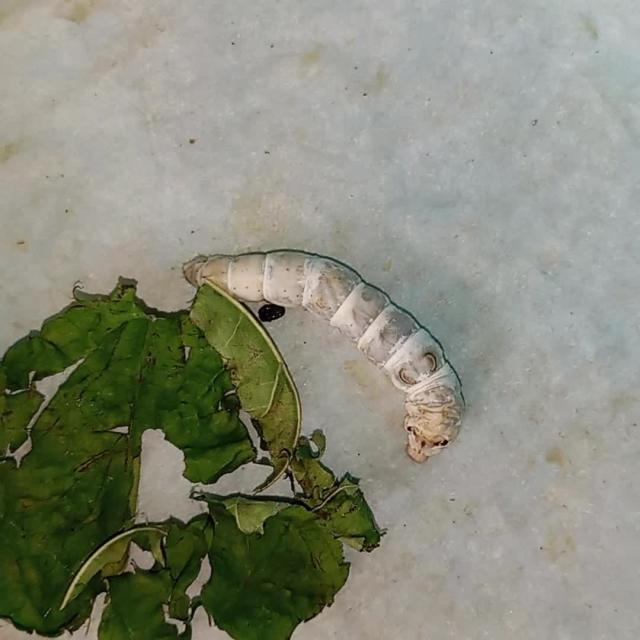Grasserie: (168, 198, 485, 486)
